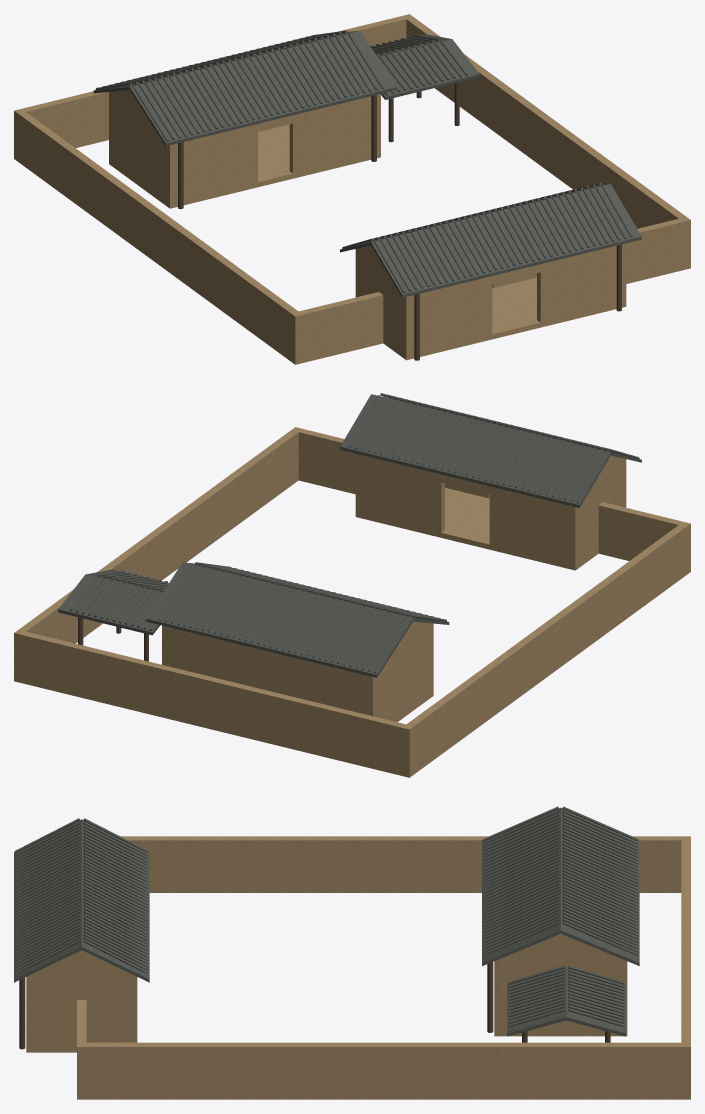
The model's file is wall-house-LOD0.glb.
3 views of the same model, one above another, from view 1: azimuth 30°, elevation 25°; view 2: azimuth 150°, elevation 25°; view 3: azimuth 270°, elevation 25° (orthographic). The views are drawn at different scales.
Parts seen in each view (by area): view 1: wall-house_earth, wall-house_tile, wall-house_timber; view 2: wall-house_earth, wall-house_tile; view 3: wall-house_earth, wall-house_tile, wall-house_timber.
Boxes of the visible parts, bbox=[...] form: wall-house_earth: bbox=[14, 14, 690, 364]; wall-house_tile: bbox=[93, 30, 641, 297]; wall-house_timber: bbox=[178, 82, 621, 360]; wall-house_earth: bbox=[14, 427, 690, 777]; wall-house_tile: bbox=[58, 393, 641, 677]; wall-house_earth: bbox=[26, 836, 690, 1099]; wall-house_tile: bbox=[14, 806, 639, 1036]; wall-house_timber: bbox=[19, 962, 610, 1049].
Bounding box in the file's own units: 18 × 4.53 × 24.45.
3 materials, 3 textured.
